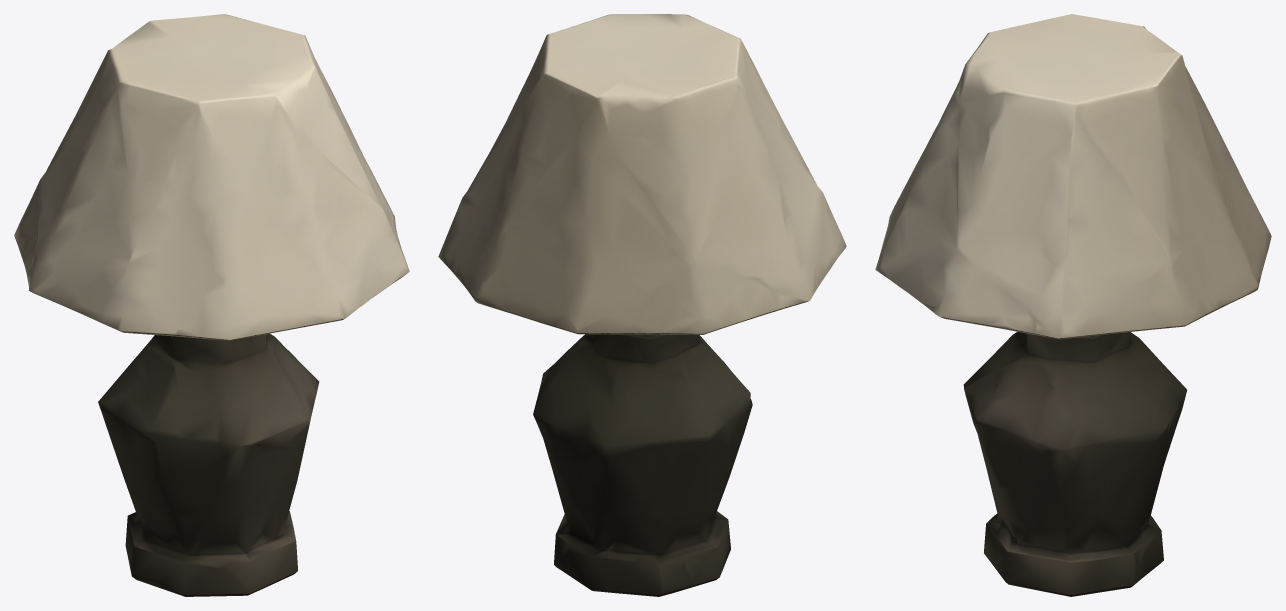
The model's file is low-poly+lamp+3d+model.glb.
3 renders of one model, left to right at view 1: azimuth 30°, elevation 25°; view 2: azimuth 150°, elevation 25°; view 3: azimuth 270°, elevation 25°, orthographic.
Parts seen in each view (by area): view 1: tripo_node_02ca8f46-efdc-4fda-a9d9-7c74ff988530; view 2: tripo_node_02ca8f46-efdc-4fda-a9d9-7c74ff988530; view 3: tripo_node_02ca8f46-efdc-4fda-a9d9-7c74ff988530.
Boxes of the visible parts, left/top/right/bottom form: tripo_node_02ca8f46-efdc-4fda-a9d9-7c74ff988530: left=14, top=14, right=409, bottom=596; tripo_node_02ca8f46-efdc-4fda-a9d9-7c74ff988530: left=438, top=14, right=846, bottom=596; tripo_node_02ca8f46-efdc-4fda-a9d9-7c74ff988530: left=875, top=14, right=1271, bottom=596.
Size of the model in its own units: 0.726 by 1 by 0.714.
Materials: 1 (1 with a texture image).
